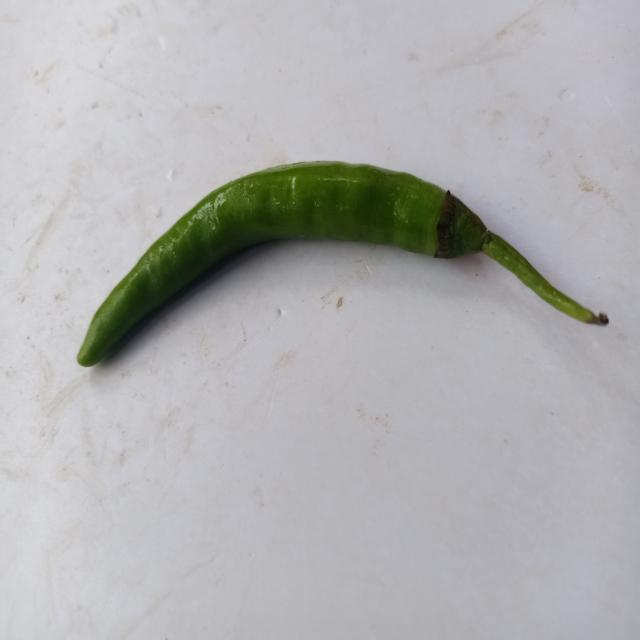Green Chilly: (76, 161, 610, 366)
